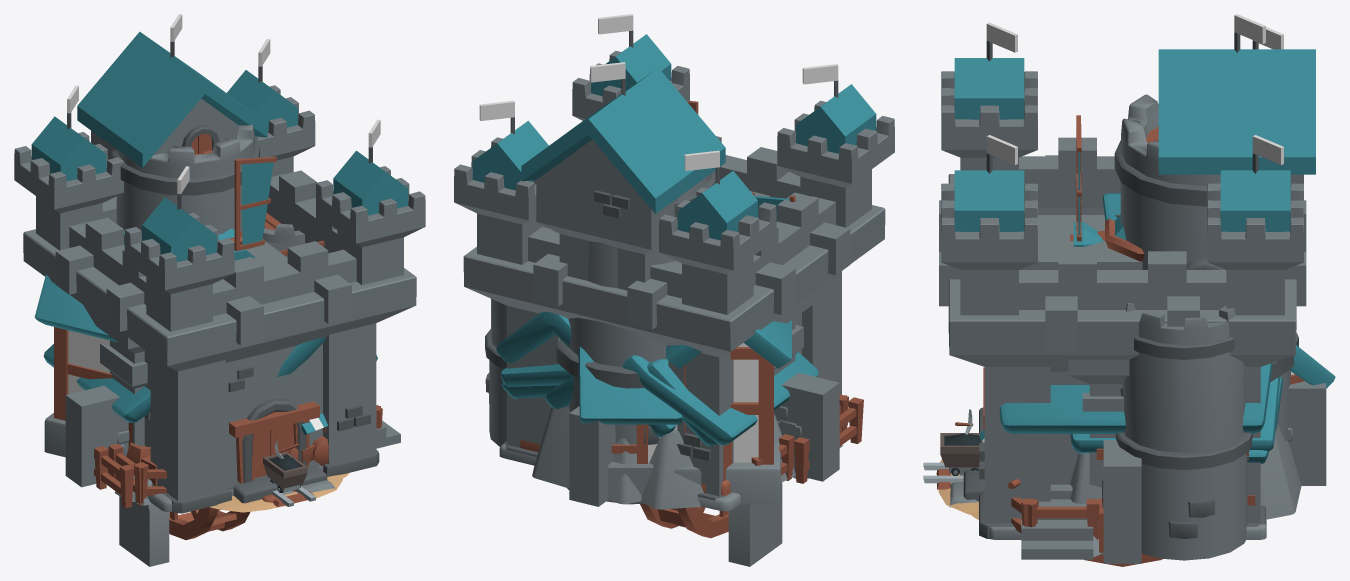
File: town-buildings.glb
3 views of the same model, side by side, from view 1: azimuth 30°, elevation 25°; view 2: azimuth 150°, elevation 25°; view 3: azimuth 270°, elevation 25° (orthographic). The views are drawn at different scales.
Parts seen in each view (by area): view 1: castle_part0, watchtower_part0, barracks_part0, mine_part0, wall_gate_part0, watermill_part0, wall_straight_part0, mill_part1, lumbermill_part0, watermill_part1, mill_part0, market_part0 (+2 smaller); view 2: castle_part0, barracks_part0, watchtower_part0, wall_corner_part0, mine_part0, lumbermill_part0, watermill_part0, market_part0, wall_straight_part0, watermill_part1, wall_gate_part0, house_part0; view 3: castle_part0, barracks_part0, watchtower_part0, watermill_part0, mine_part0, wall_straight_part0, wall_gate_part0, wall_corner_part0, lumbermill_part0, mill_part0, mill_part1, market_part0 (+1 smaller).
Boxes of the visible parts, x1,y1,x2,y2 form: castle_part0: (14, 14, 425, 513); watchtower_part0: (112, 124, 264, 241); barracks_part0: (34, 213, 304, 508); mine_part0: (114, 401, 349, 507); wall_gate_part0: (78, 305, 147, 486); watermill_part0: (119, 337, 400, 566); wall_straight_part0: (65, 393, 128, 486); mill_part1: (234, 156, 324, 260); lumbermill_part0: (43, 227, 378, 511); watermill_part1: (169, 507, 250, 540); mill_part0: (108, 228, 380, 505); market_part0: (141, 413, 342, 512); castle_part0: (454, 14, 894, 500); barracks_part0: (485, 299, 863, 504); watchtower_part0: (556, 170, 715, 504); wall_corner_part0: (569, 373, 827, 506); mine_part0: (532, 406, 842, 509); lumbermill_part0: (500, 352, 848, 508); watermill_part0: (496, 311, 782, 566); market_part0: (499, 359, 740, 511); wall_straight_part0: (777, 373, 839, 481); watermill_part1: (640, 504, 728, 538); wall_gate_part0: (773, 286, 839, 479); house_part0: (545, 364, 848, 475); castle_part0: (939, 14, 1315, 538); barracks_part0: (1008, 303, 1335, 560); watchtower_part0: (1114, 94, 1298, 441); watermill_part0: (999, 363, 1272, 559); mine_part0: (923, 367, 1301, 526); wall_straight_part0: (1102, 457, 1141, 563); wall_gate_part0: (1068, 359, 1141, 487); wall_corner_part0: (1288, 381, 1326, 485); lumbermill_part0: (949, 193, 1280, 557); mill_part0: (1011, 215, 1144, 540); mill_part1: (1073, 115, 1103, 246); market_part0: (938, 430, 1268, 539).
Size of the model in its own units: 2 by 3.09 by 2.02.
